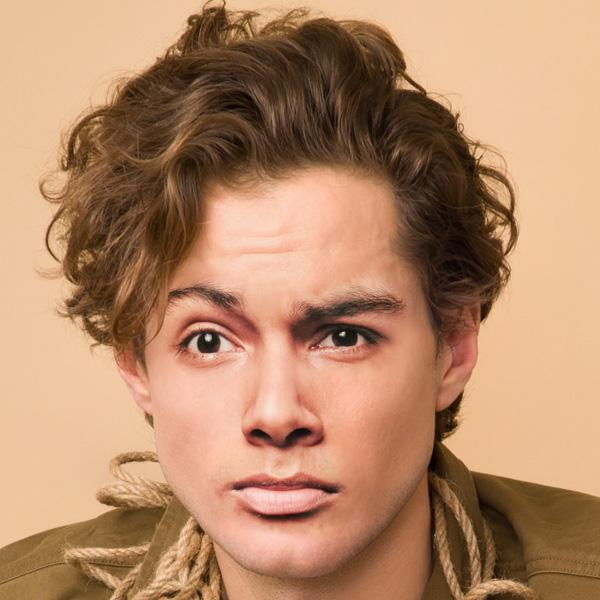Eyes: (298, 313, 392, 370), (165, 311, 252, 371)
